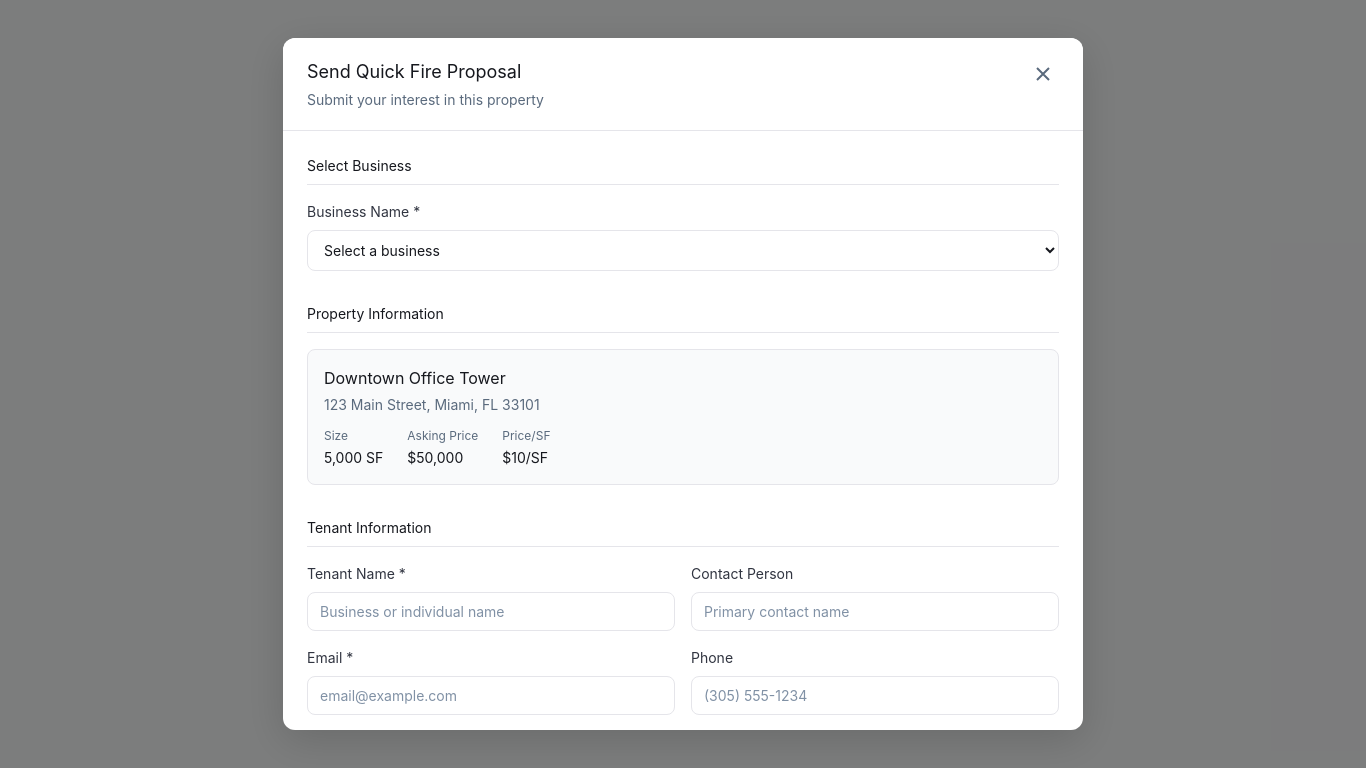
Test: QFPModal › should show preview mode when Preview QFP is clicked with valid data
Select a business
Select "Acme Restaurant Group" in the dropdown labelled "Business Name *" at (683, 251), box [307,230,1059,271]
(page scrolled)
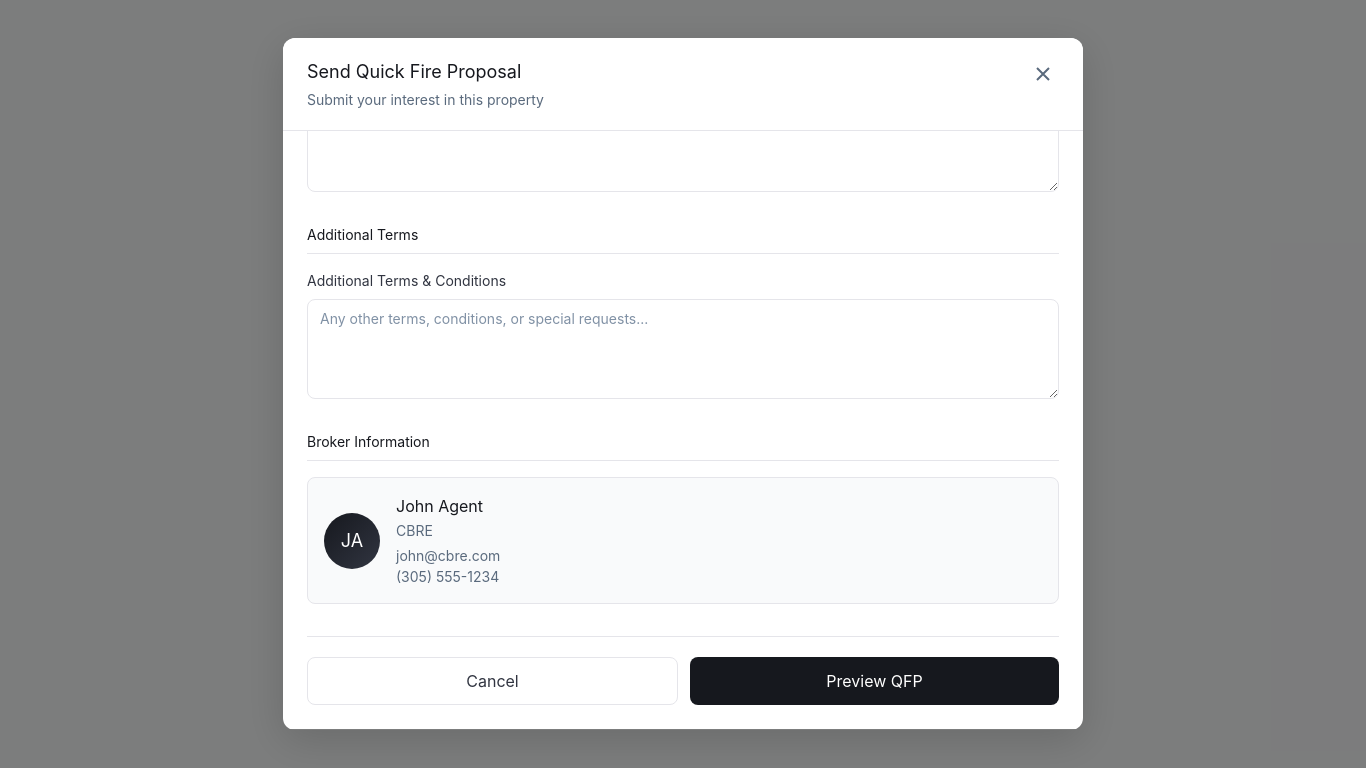
Click preview
Click the button "Preview QFP".
click(874, 681)  # box [690,657,1059,705]
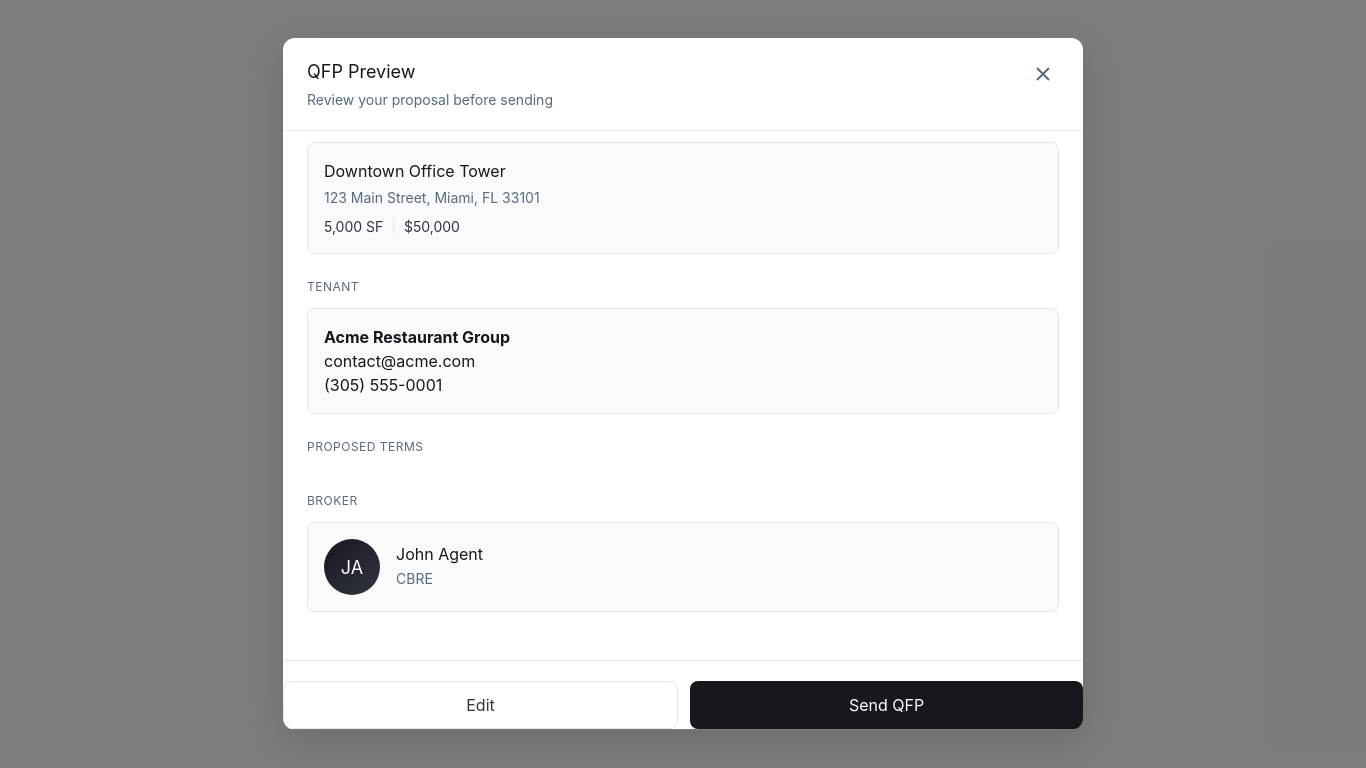
Check: the heading "QFP Preview" is shown, box [307,61,416,82]
